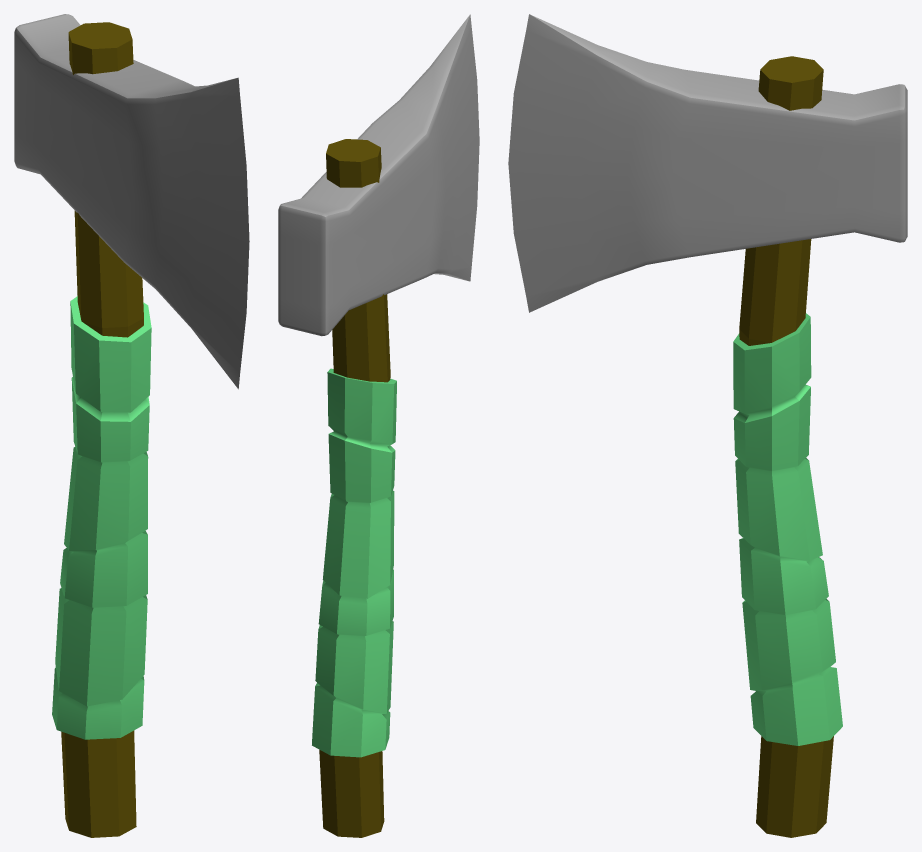
The model's file is Axe.fbx.
3 renders of one model, left to right at view 1: azimuth 30°, elevation 25°; view 2: azimuth 150°, elevation 25°; view 3: azimuth 270°, elevation 25°, orthographic. The views are drawn at different scales.
Visible parts, largest first — view 1: A_Top; view 2: A_Top; view 3: A_Top.
Boxes of the visible parts, <box> form: A_Top: <box>14,14,249,837</box>; A_Top: <box>278,14,479,837</box>; A_Top: <box>508,14,907,837</box>.
Bounding box in the file's own units: 6.95 × 69.16 × 30.92.
